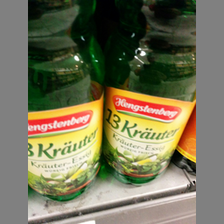vinegar: (106, 1, 197, 184), (28, 1, 106, 200)
